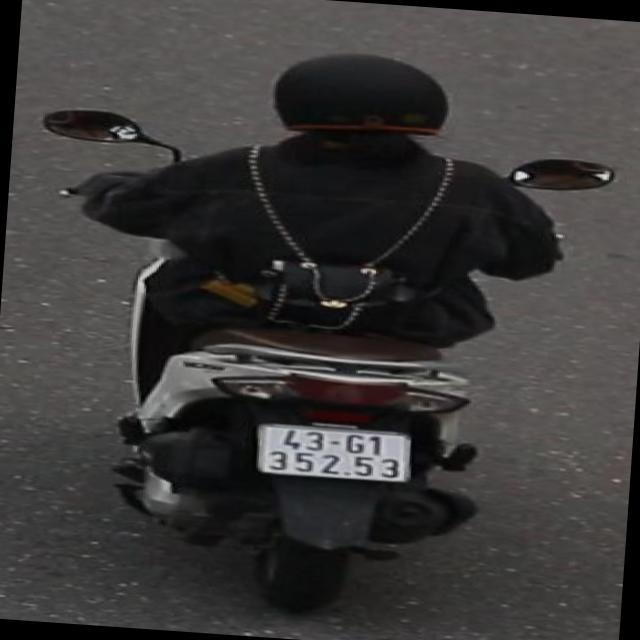LP: (248, 419, 420, 492)
helmet: (257, 39, 463, 160)
